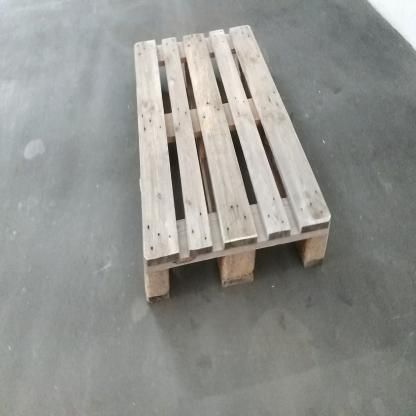BoxFace: (130, 17, 334, 310)
